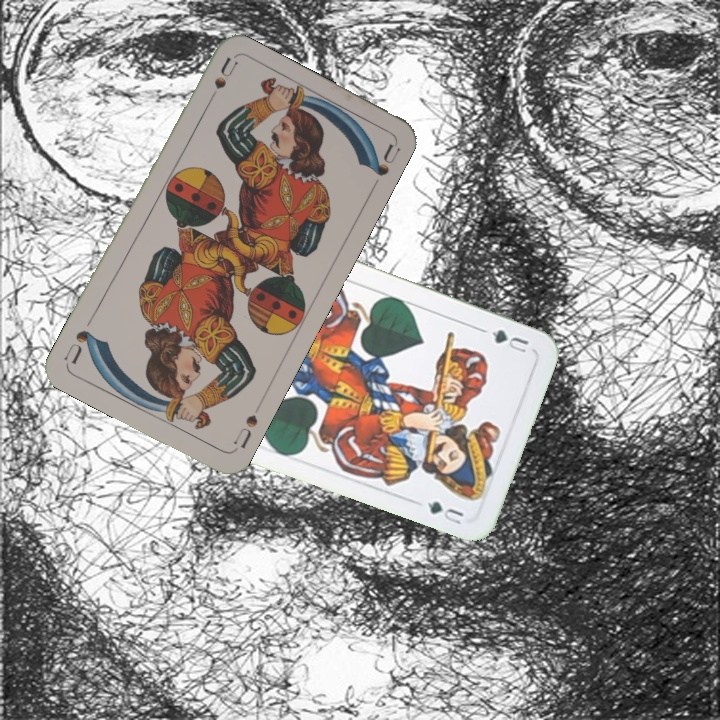GU: (487, 325, 531, 355)
SU: (201, 54, 240, 110), (229, 410, 261, 452)
